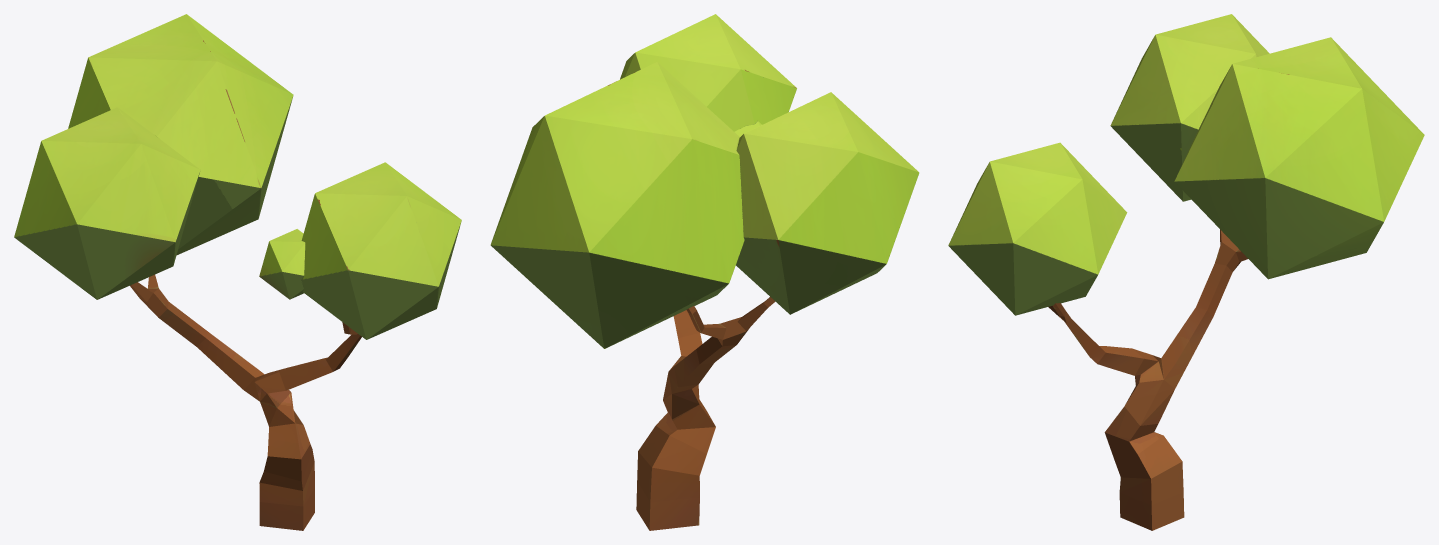
Rendered from Small Tree3.fbx.
The picture shows the model from 3 angles, left to right: view 1: azimuth 30°, elevation 25°; view 2: azimuth 150°, elevation 25°; view 3: azimuth 270°, elevation 25°; orthographic projection. The views are drawn at different scales.
Parts seen in each view (by area): view 1: Small Tree; view 2: Small Tree; view 3: Small Tree.
Boxes of the visible parts, <box> form: Small Tree: <box>14,14,461,530</box>; Small Tree: <box>490,14,919,530</box>; Small Tree: <box>948,14,1424,530</box>.
Size of the model in its own units: 879 by 1083 by 1067.
